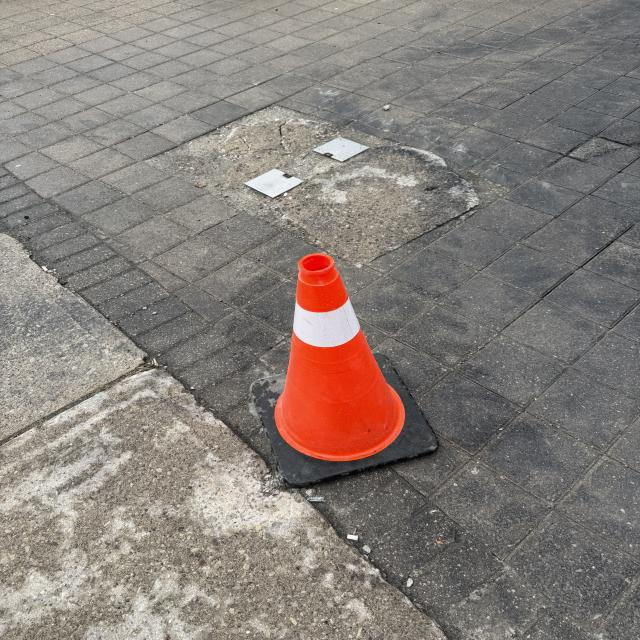Traffic Cone: (252, 252, 442, 488)
